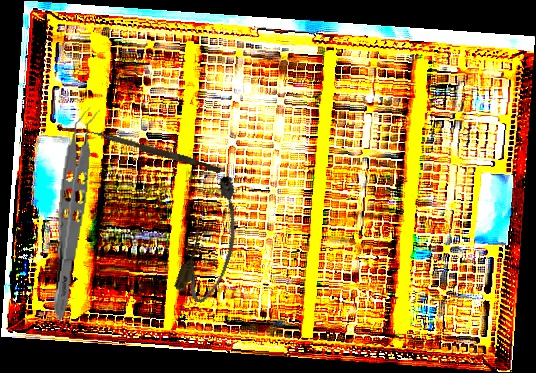Cannula: (171, 172, 257, 307)
Pusher: (89, 129, 222, 174)
Tissue Forceps: (49, 105, 102, 323)
